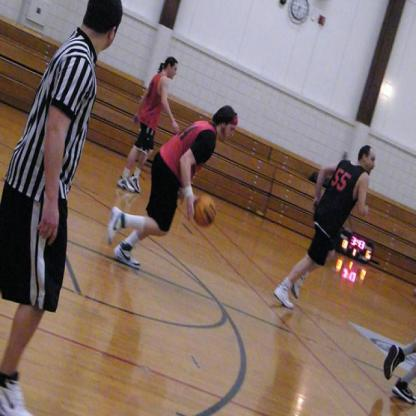basketball: (194, 194, 216, 228)
